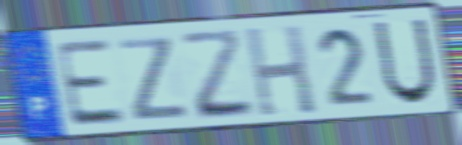2: (315, 26, 376, 109)
E: (51, 37, 129, 130)
H: (242, 22, 319, 120)
U: (370, 16, 439, 107)
Z: (176, 26, 259, 123), (116, 34, 193, 124)
